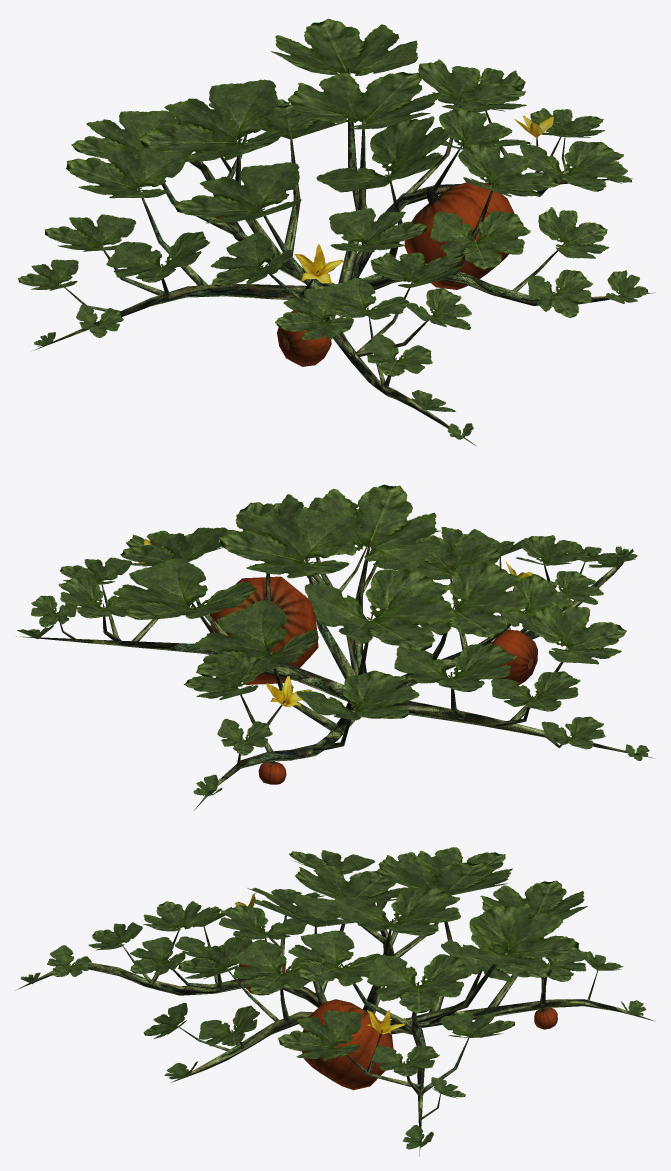
Rendered from pumpkin-plant.glb.
3 views of the same model, one above another, from view 1: azimuth 30°, elevation 25°; view 2: azimuth 150°, elevation 25°; view 3: azimuth 270°, elevation 25° (orthographic). The views are drawn at different scales.
Bounding box in the file's own units: 91.88 × 26.28 × 95.26.
1 material, 1 textured.
